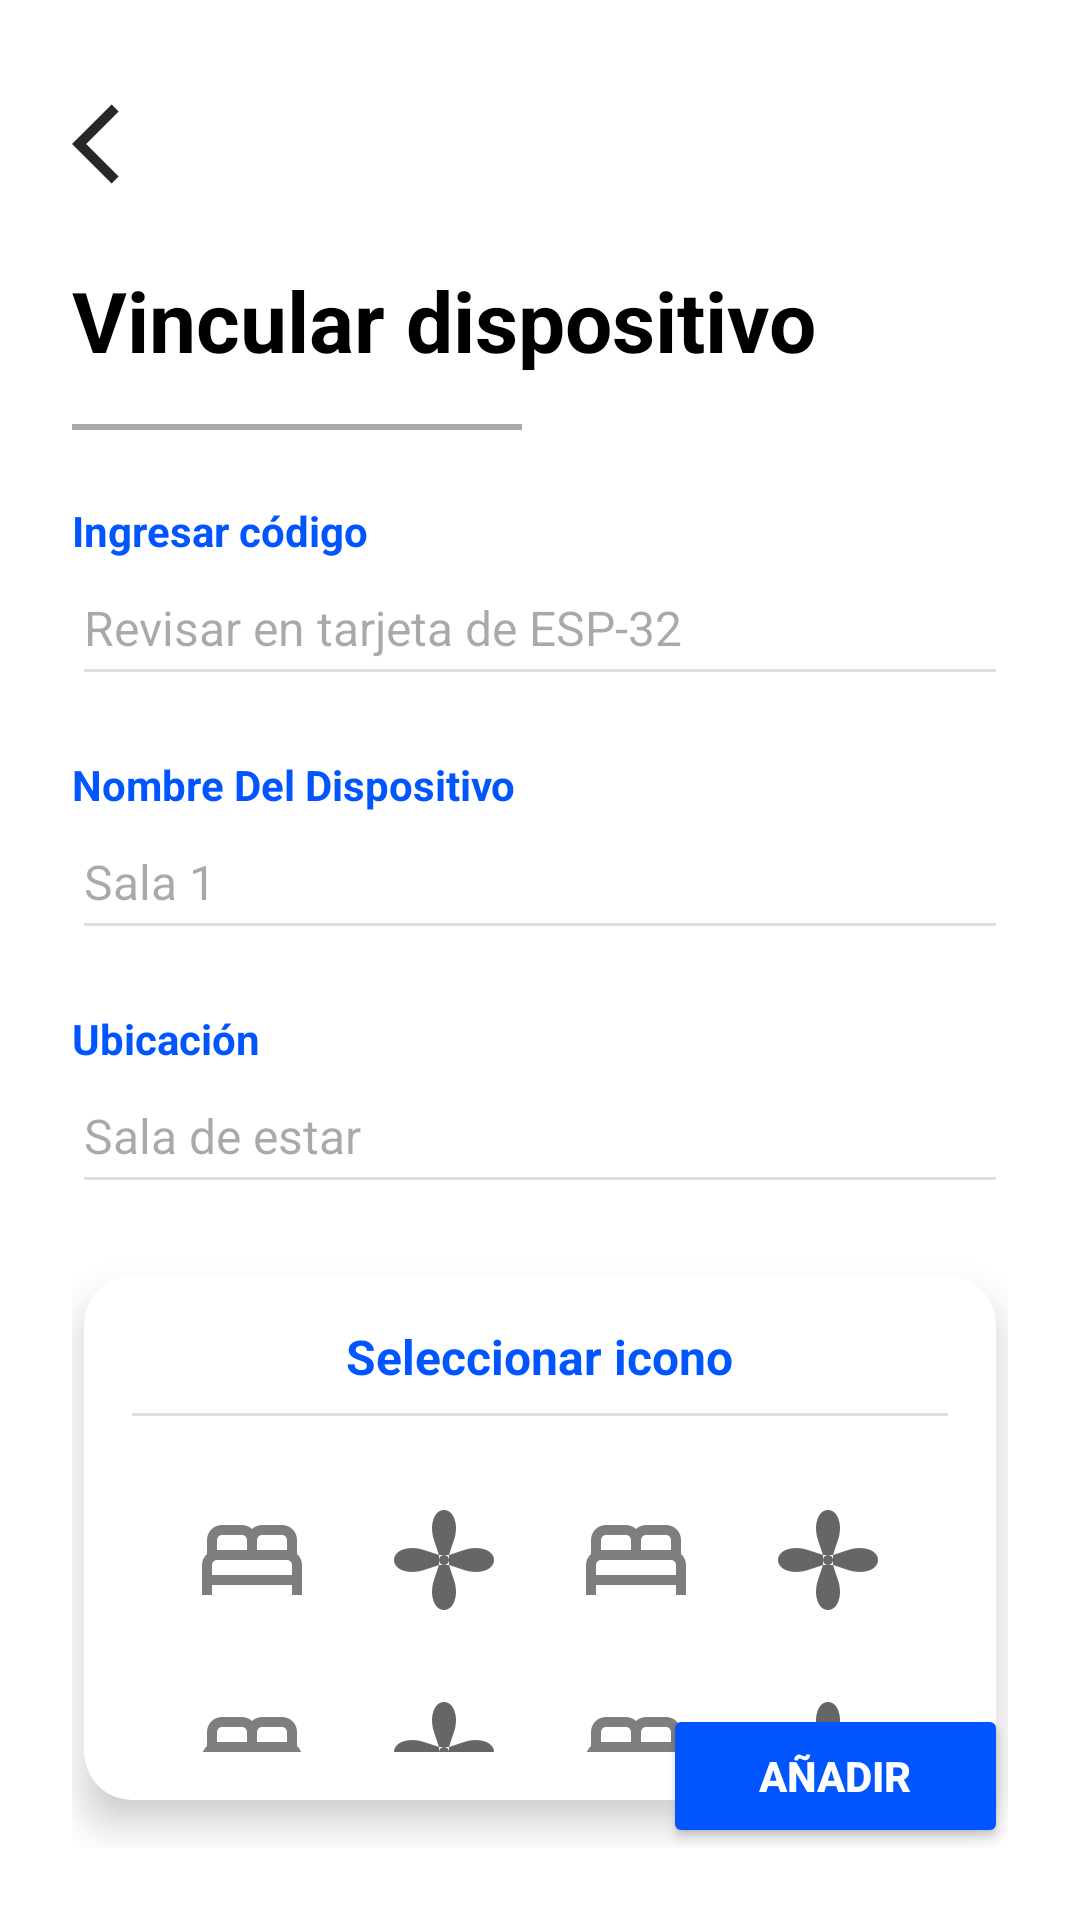

Icons on this 1080px x 1920px Android screen, each with its box as Rect(x1, y1, x2, y2):
arrow back: Rect(72, 104, 119, 184)
